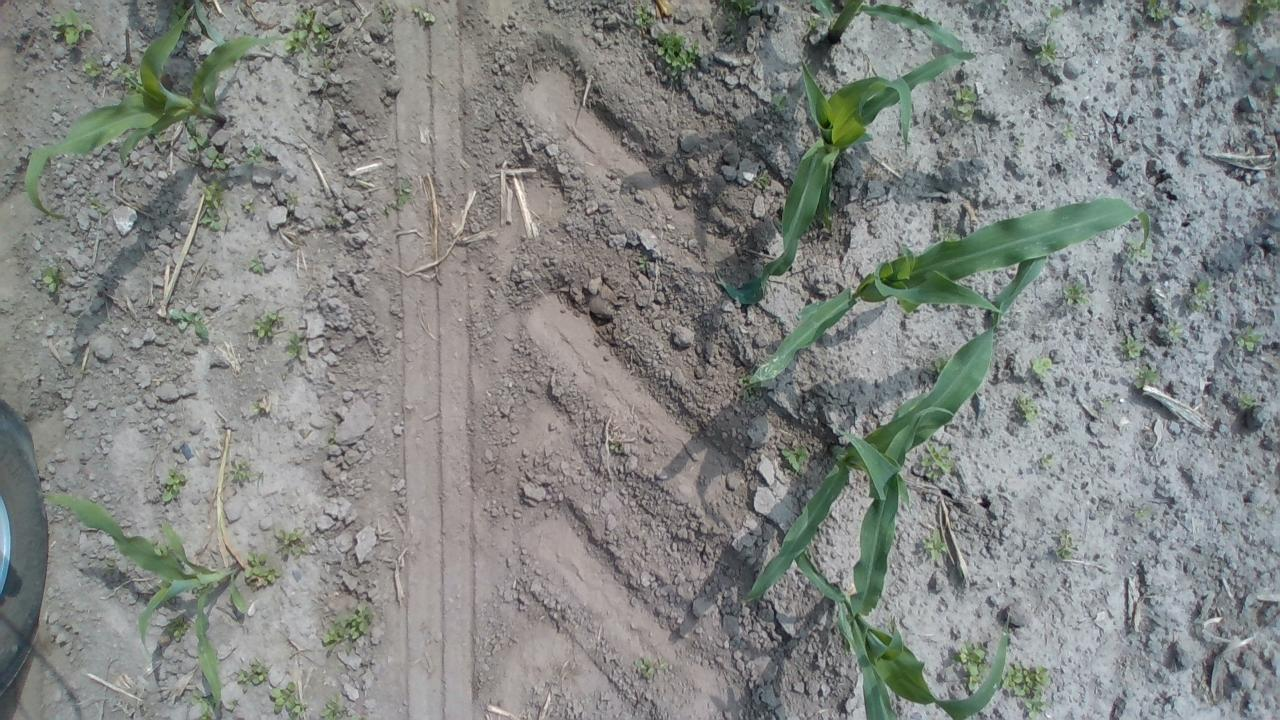Maize: (733, 195, 1156, 388), (741, 326, 1002, 618), (766, 415, 1014, 716), (720, 44, 980, 308), (31, 1, 288, 226), (42, 480, 262, 716)
Weeds: (320, 597, 377, 659), (999, 664, 1054, 718), (78, 56, 150, 96), (282, 8, 339, 57), (646, 34, 698, 80), (955, 636, 991, 692), (196, 182, 233, 234), (191, 684, 239, 720), (187, 130, 228, 172), (169, 306, 214, 344), (48, 12, 93, 49), (240, 550, 278, 592), (720, 1, 766, 35), (268, 682, 310, 718), (272, 522, 308, 564), (778, 437, 814, 478), (918, 524, 954, 564), (920, 443, 956, 482), (1061, 274, 1099, 308), (237, 656, 272, 690), (318, 692, 360, 720), (242, 391, 277, 422), (386, 176, 414, 214), (1054, 526, 1082, 563), (252, 308, 284, 340), (1186, 276, 1214, 312), (1010, 391, 1042, 422), (1230, 387, 1259, 419), (1243, 0, 1280, 25), (950, 86, 974, 124), (158, 466, 183, 502), (1032, 38, 1058, 72), (286, 330, 311, 364), (1124, 233, 1150, 264), (1130, 363, 1158, 390), (42, 266, 68, 295), (164, 612, 189, 642), (1120, 332, 1146, 360), (1237, 322, 1259, 354), (232, 456, 254, 488), (87, 192, 114, 218), (1158, 318, 1186, 343), (1143, 0, 1173, 22), (246, 145, 274, 168), (1260, 64, 1277, 101), (1130, 503, 1156, 526), (636, 658, 663, 680), (248, 251, 270, 277), (630, 8, 654, 31), (412, 6, 438, 25), (1030, 356, 1052, 378), (610, 434, 630, 458), (1043, 6, 1066, 26), (804, 12, 824, 34), (238, 194, 257, 217), (754, 169, 772, 193), (1232, 38, 1252, 59), (773, 94, 792, 116), (1037, 448, 1055, 470), (1198, 12, 1218, 30), (322, 214, 342, 232), (1060, 122, 1076, 144), (151, 541, 167, 556), (1013, 138, 1026, 156)
